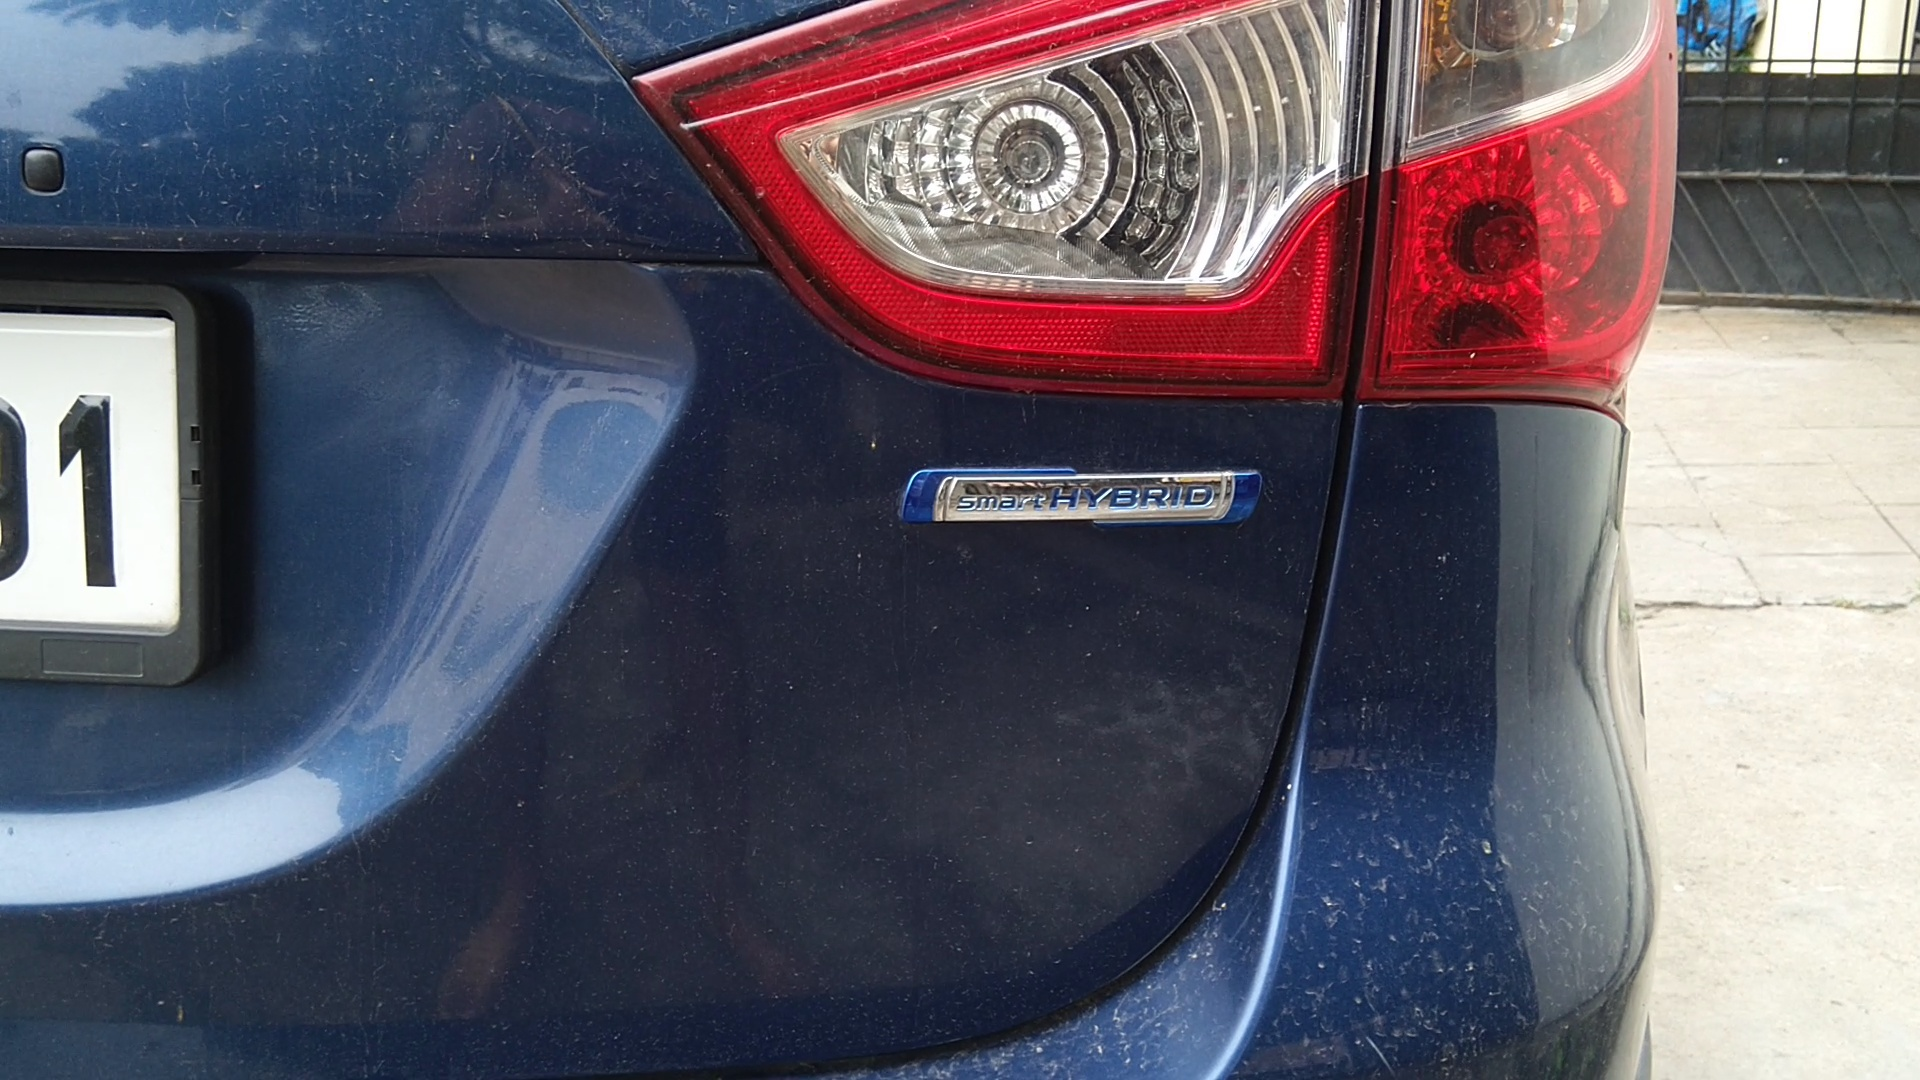shvs: (864, 422, 1296, 556)
